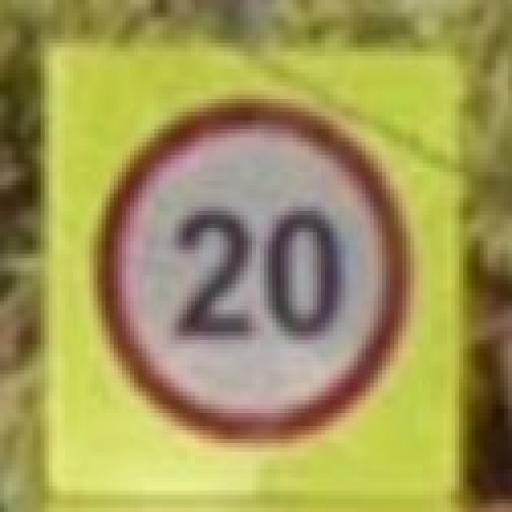traffic_sign: (91, 96, 424, 457)
